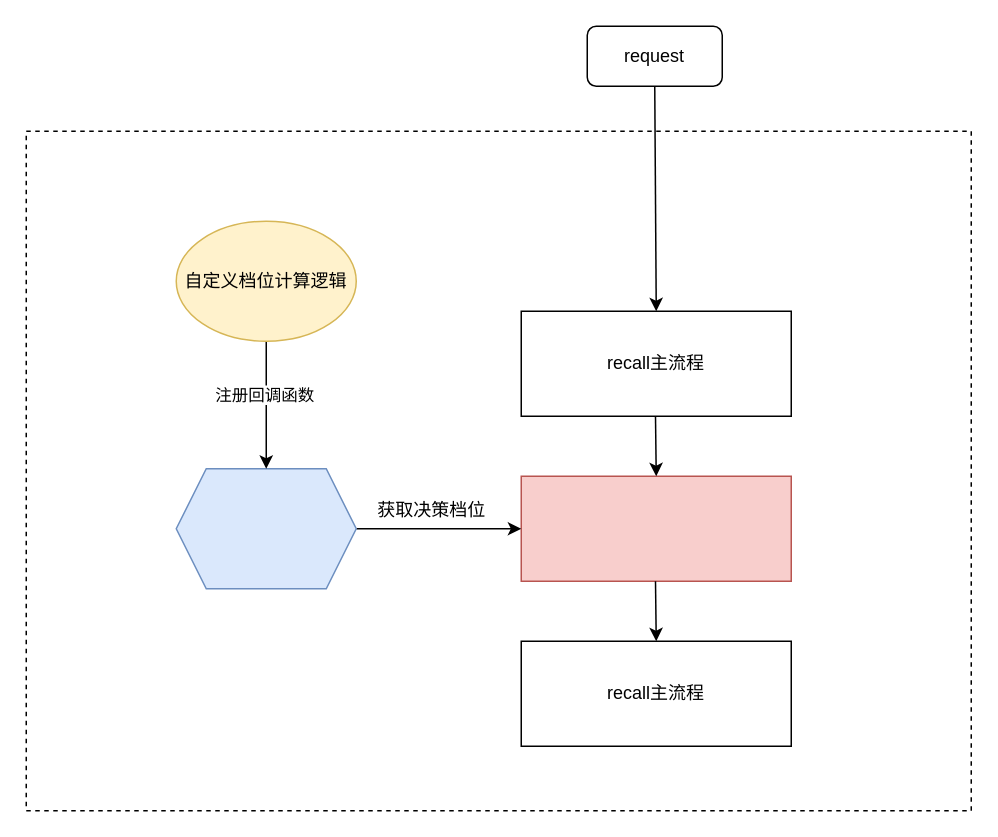
Some shapes in this 998 by 837 pixel diagram are drawn without their labels. The shapes that lost their labels are listed below. From the top down, each one's centre as x and y in pixels, then its label:
pixel 265 528: 本地决策模块
pixel 655 528: 修改召回效果 （修改召回倍数）
